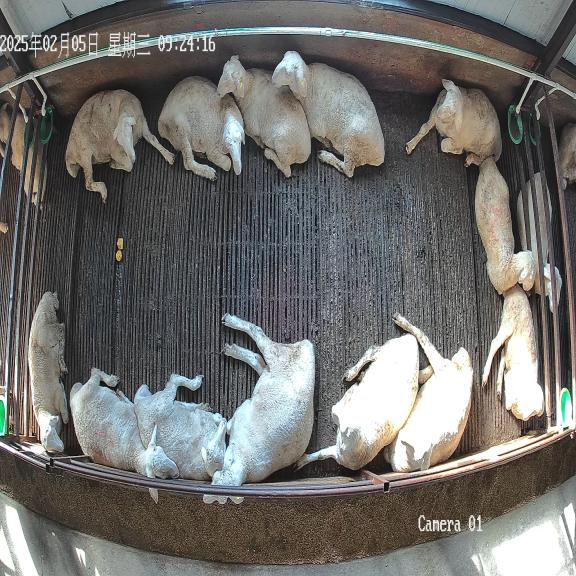lying: (203, 314, 315, 504), (298, 334, 419, 470), (272, 51, 385, 178), (383, 314, 473, 472), (65, 90, 175, 199), (71, 368, 179, 478), (217, 55, 311, 176), (134, 374, 226, 481), (158, 76, 245, 180), (475, 157, 537, 294), (406, 79, 502, 166), (482, 287, 544, 420), (28, 292, 69, 452)
